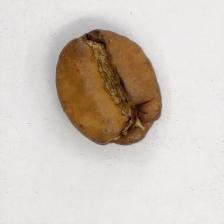NG: (61, 31, 147, 146)
